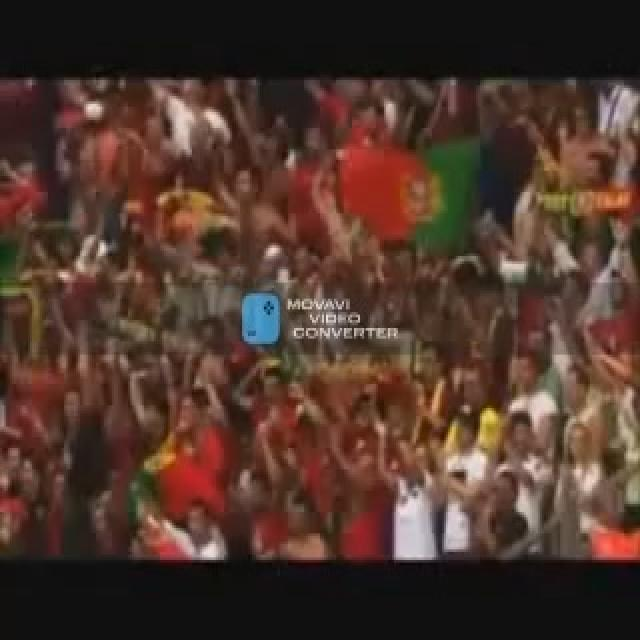non-voilence: (0, 72, 638, 560), (238, 288, 282, 347)
